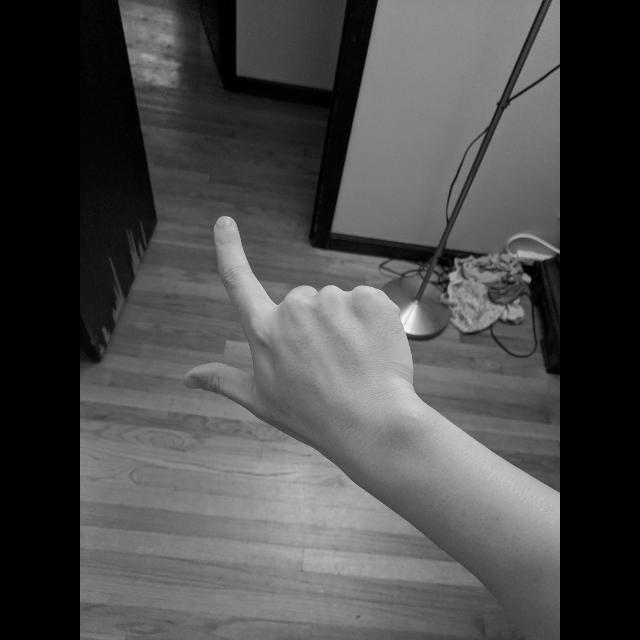L: (177, 210, 417, 452)
